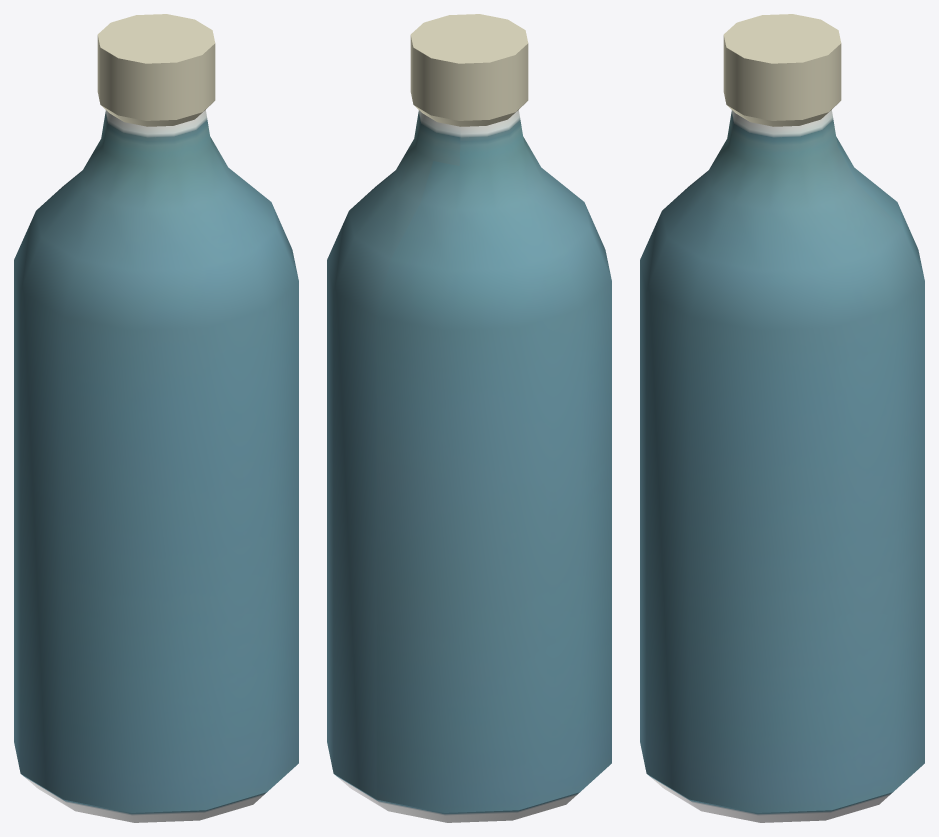
The model's file is SM_drink_soda_04.fbx.
3 renders of one model, left to right at view 1: azimuth 30°, elevation 25°; view 2: azimuth 150°, elevation 25°; view 3: azimuth 270°, elevation 25°, orthographic.
Visible parts, largest first — view 1: Cylinder062; view 2: Cylinder062; view 3: Cylinder062.
Boxes of the visible parts, x1,y1,x2,y2 form: Cylinder062: (14, 14, 298, 822); Cylinder062: (327, 14, 611, 822); Cylinder062: (640, 14, 924, 822).
Size of the model in its own units: 9.03 by 25.6 by 9.03.
